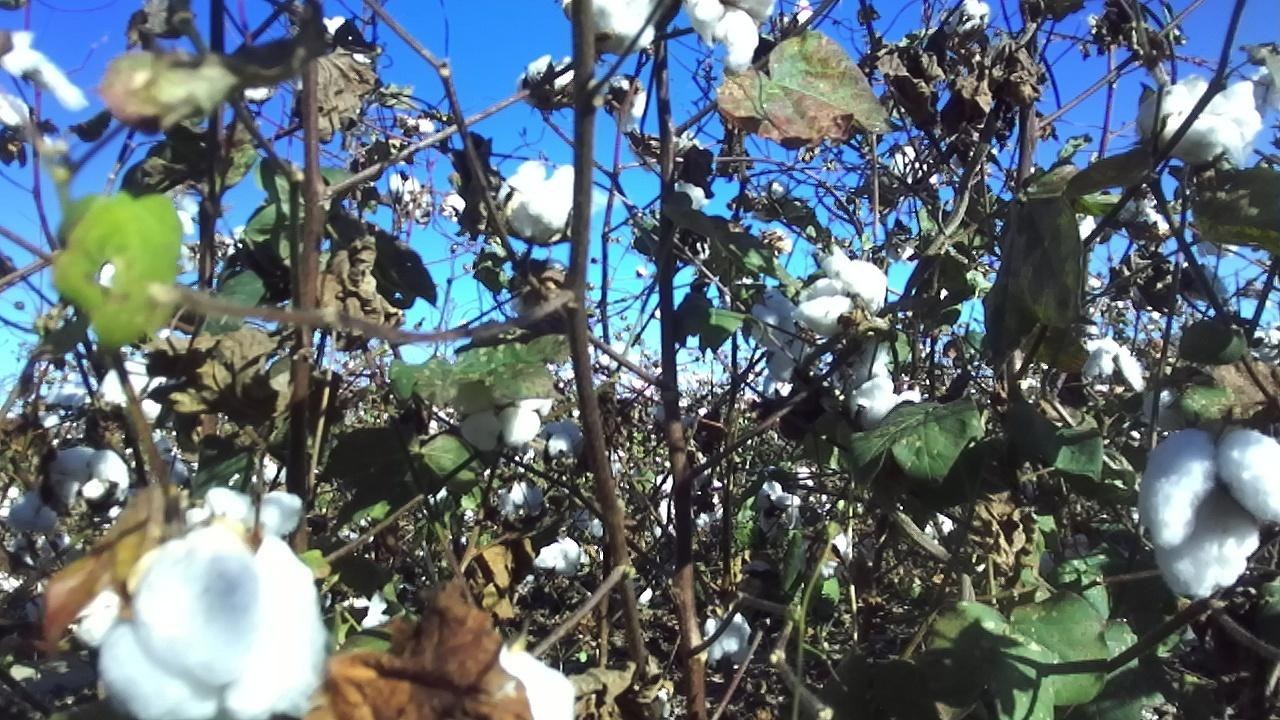cotton_ready: (99, 517, 334, 720), (1135, 428, 1280, 602), (1136, 70, 1265, 169), (455, 361, 552, 452), (499, 158, 589, 249), (793, 249, 894, 330), (473, 644, 580, 720), (685, 0, 780, 75), (559, 0, 665, 57), (47, 449, 132, 520), (854, 376, 923, 436), (702, 608, 753, 667)
